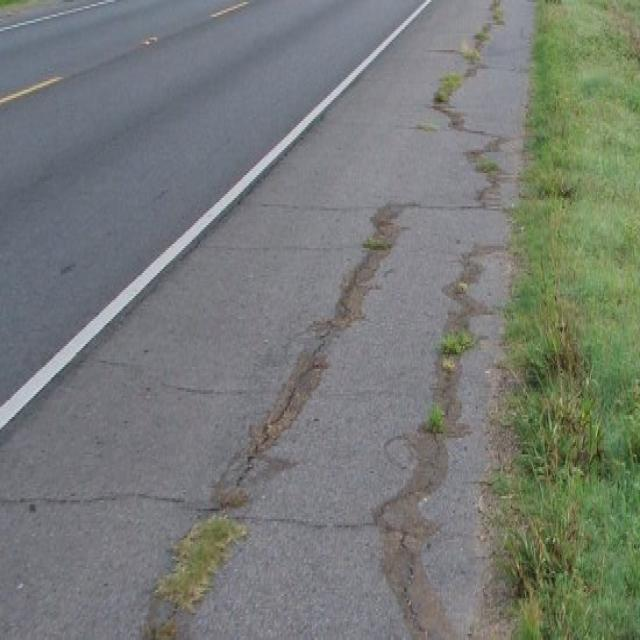Pothole: (402, 35, 640, 639)
